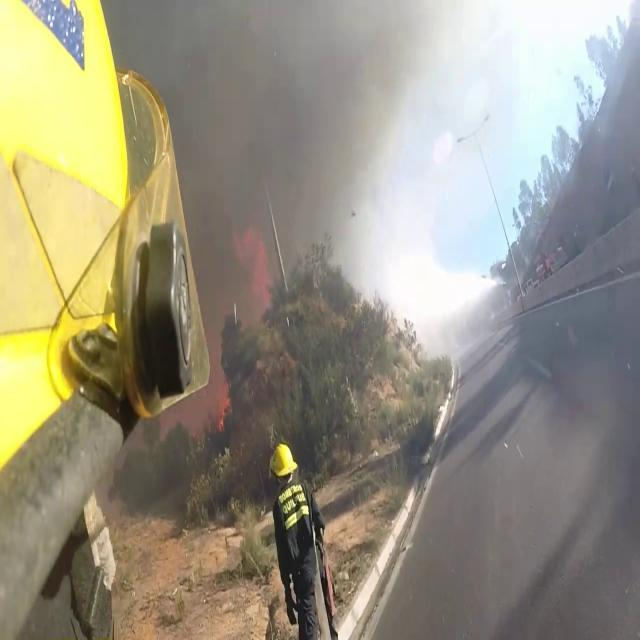Smoke: (162, 0, 424, 417)
